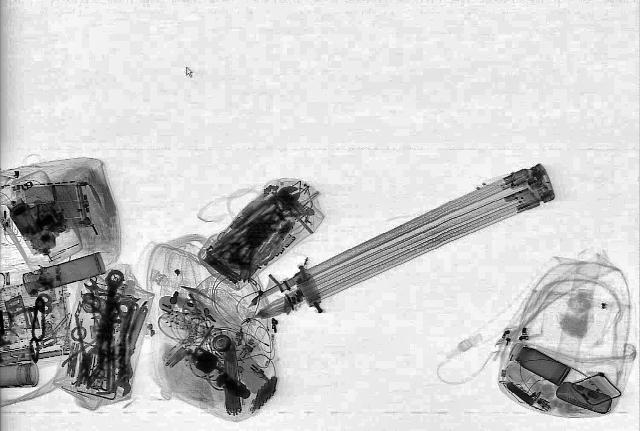Pliers: (63, 274, 137, 328)
Wrench: (109, 300, 135, 396)
